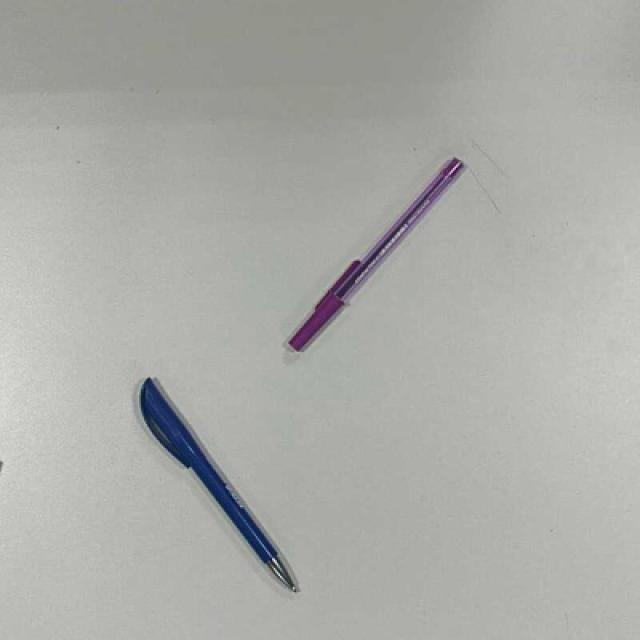caneta: (124, 380, 304, 607), (285, 151, 469, 355)
